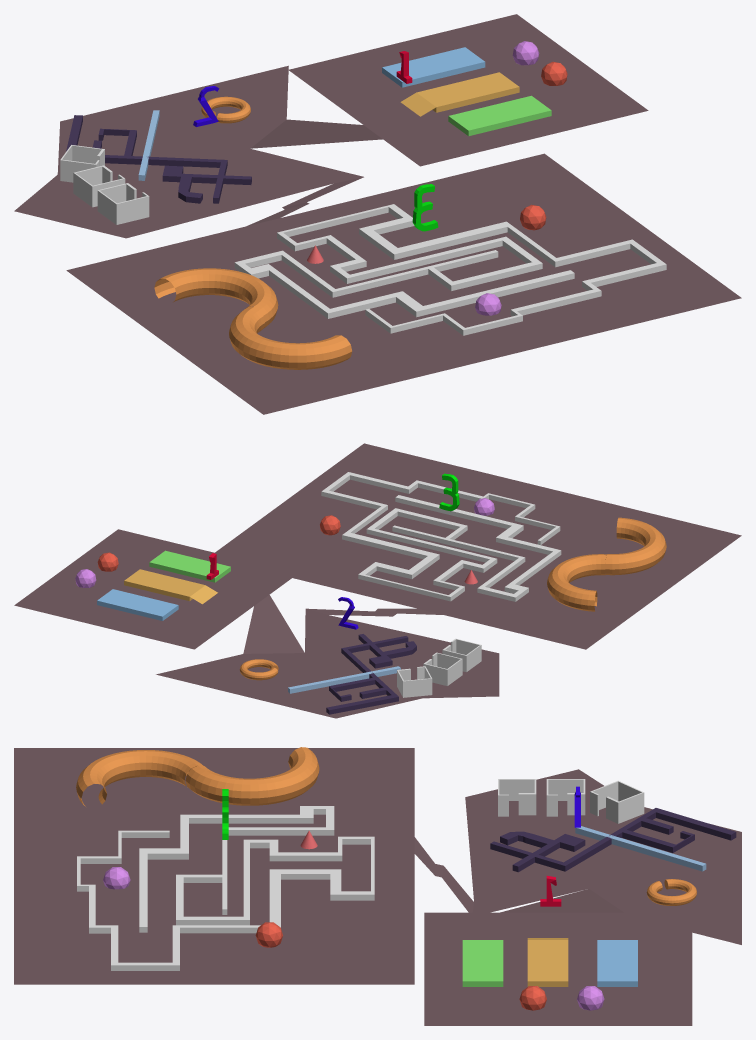
Rendered from Levels 1.fbx.
3 renders of one model, top to bottom at view 1: azimuth 30°, elevation 25°; view 2: azimuth 150°, elevation 25°; view 3: azimuth 270°, elevation 25°, orthographic. The views are drawn at different scales.
Parts seen in each view (by area): view 1: Plane, Cube.008, Torus.001, Simple Puzzle, Torus.002, Cube.002, Cube.001, Cube.003, Room1, Room1.001, Room1.002, Torus (+1 smaller); view 2: Plane, Cube.008, Simple Puzzle, Torus.001, Torus.002, Cube.002, Cube.003, Cube.001, Room1.001, Room1.002, Room1, Cube (+1 smaller); view 3: Plane, Cube.008, Simple Puzzle, Torus.002, Torus.001, Cube.002, Cube.001, Cube.003, Room1.002, Room1, Cube, Room1.001 (+5 smaller).
Boxes of the visible parts, x1=… form: Plane: x1=14, y1=14, x2=741, y2=414; Cube.008: x1=234, y1=204, x2=666, y2=335; Torus.001: x1=229, y1=307, x2=352, y2=369; Simple Puzzle: x1=66, y1=115, x2=251, y2=203; Torus.002: x1=154, y1=268, x2=278, y2=328; Cube.002: x1=400, y1=72, x2=519, y2=116; Cube.001: x1=448, y1=95, x2=551, y2=136; Cube.003: x1=382, y1=47, x2=485, y2=87; Room1: x1=97, y1=183, x2=149, y2=224; Room1.001: x1=73, y1=165, x2=125, y2=207; Room1.002: x1=60, y1=145, x2=104, y2=182; Torus: x1=201, y1=96, x2=250, y2=123; Plane: x1=14, y1=443, x2=741, y2=718; Cube.008: x1=321, y1=472, x2=561, y2=601; Simple Puzzle: x1=326, y1=634, x2=416, y2=714; Torus.001: x1=605, y1=517, x2=666, y2=575; Torus.002: x1=547, y1=554, x2=606, y2=611; Cube.002: x1=124, y1=569, x2=217, y2=604; Cube.003: x1=97, y1=589, x2=178, y2=620; Cube.001: x1=149, y1=550, x2=230, y2=582; Room1.001: x1=423, y1=652, x2=462, y2=685; Room1.002: x1=397, y1=666, x2=432, y2=697; Room1: x1=442, y1=638, x2=481, y2=672; Cube: x1=288, y1=666, x2=400, y2=693; Plane: x1=14, y1=748, x2=741, y2=1025; Cube.008: x1=77, y1=806, x2=374, y2=970; Simple Puzzle: x1=490, y1=808, x2=736, y2=872; Torus.002: x1=185, y1=747, x2=319, y2=805; Torus.001: x1=76, y1=750, x2=203, y2=806; Cube.002: x1=527, y1=938, x2=568, y2=986; Cube.001: x1=462, y1=940, x2=503, y2=986; Cube.003: x1=597, y1=940, x2=637, y2=986; Room1.002: x1=590, y1=780, x2=644, y2=823; Room1: x1=498, y1=779, x2=536, y2=816; Cube: x1=575, y1=826, x2=706, y2=871; Room1.001: x1=546, y1=779, x2=585, y2=816.
Size of the model in its own units: 21718 by 3389 by 22965.
